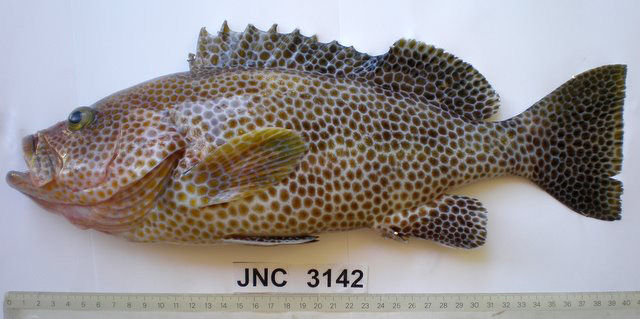fish: (6, 20, 628, 249)
